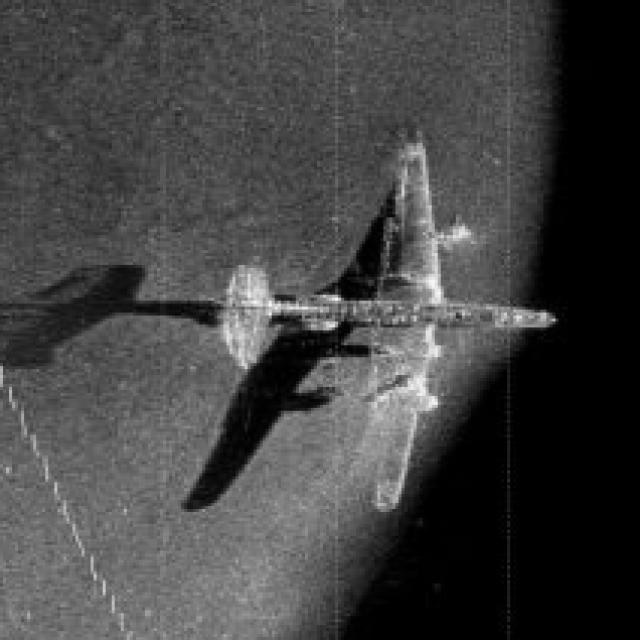plane: (205, 125, 552, 506)
